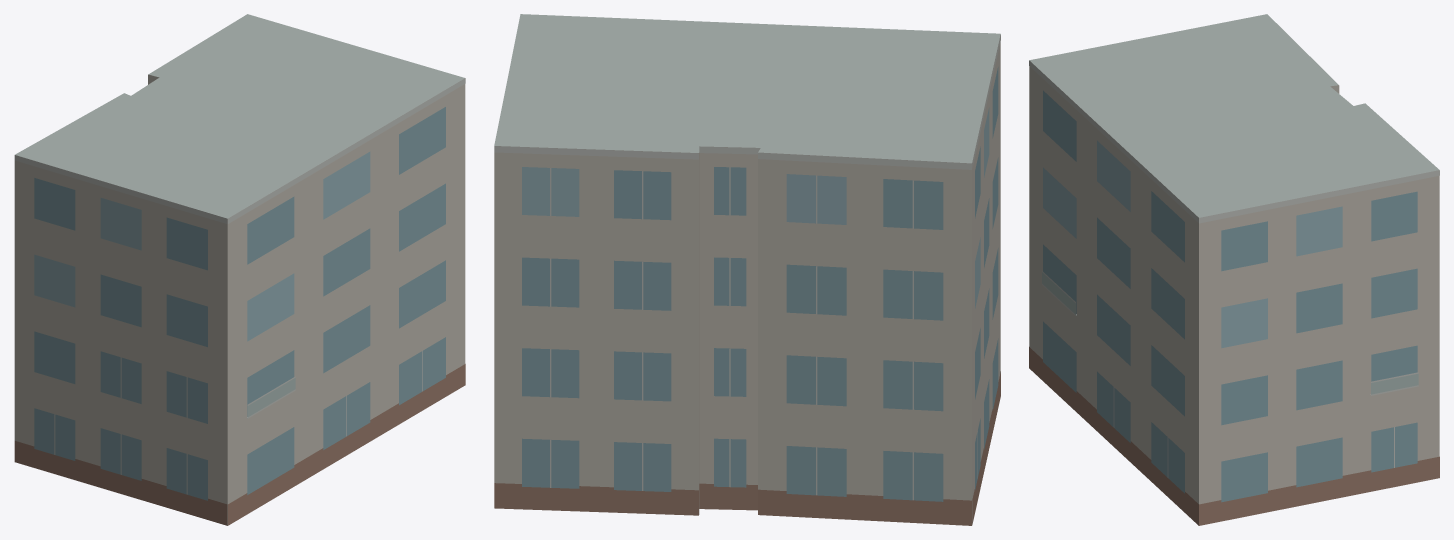
File: survey-upis-33017076.glb
3 views of the same model, side by side, from view 1: azimuth 30°, elevation 25°; view 2: azimuth 150°, elevation 25°; view 3: azimuth 270°, elevation 25° (orthographic). The views are drawn at different scales.
Visible parts, largest first — view 1: survey-upis-33017076.tmp; view 2: survey-upis-33017076.tmp; view 3: survey-upis-33017076.tmp.
Boxes of the visible parts, x1,y1,x2,y2 form: survey-upis-33017076.tmp: (14, 14, 465, 525); survey-upis-33017076.tmp: (494, 14, 1000, 525); survey-upis-33017076.tmp: (1029, 14, 1439, 525).
Bounding box in the file's own units: 19.03 × 13.4 × 16.2.
